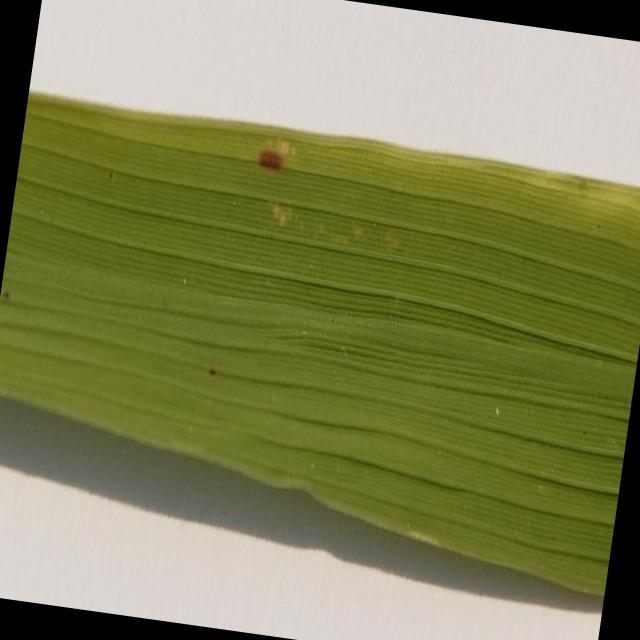Rice_Brownspot: (235, 127, 300, 204)
